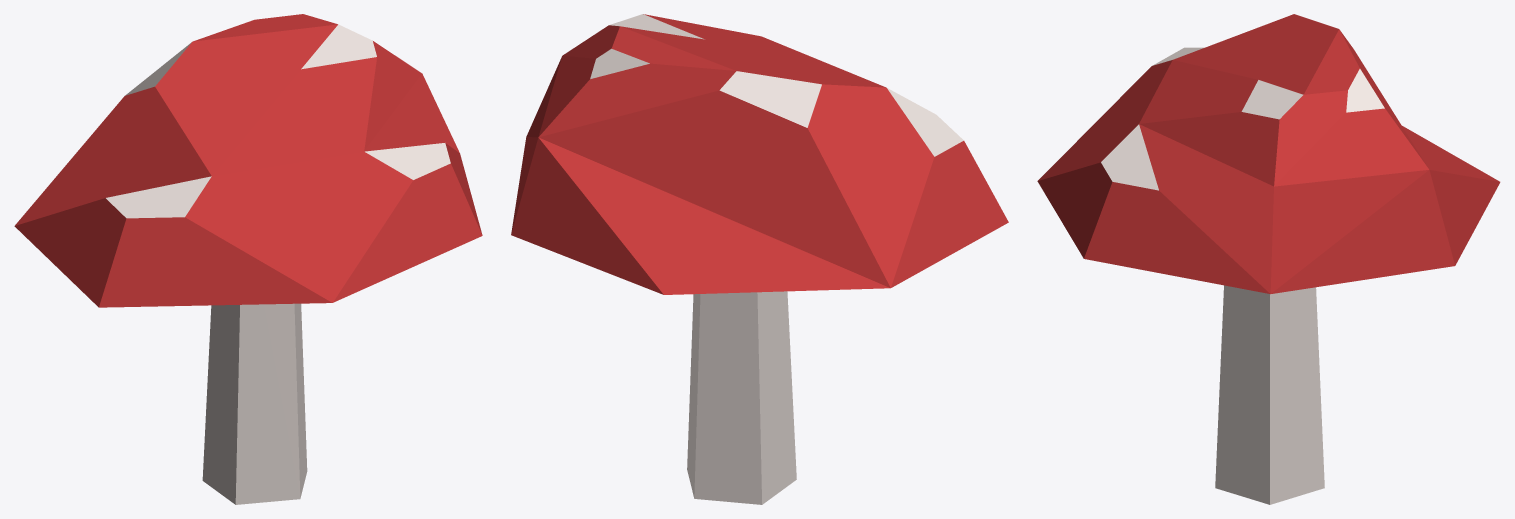
Rendered from SM_Mushroom_Red_01.fbx.
The picture shows the model from 3 angles, left to right: view 1: azimuth 30°, elevation 25°; view 2: azimuth 150°, elevation 25°; view 3: azimuth 270°, elevation 25°; orthographic projection. The views are drawn at different scales.
Visible parts, largest first — view 1: SM_Mushroom_Red_01; view 2: SM_Mushroom_Red_01; view 3: SM_Mushroom_Red_01.
Part boxes in pixels (x1,y1,x2,y2): SM_Mushroom_Red_01: (14,14,482,504); SM_Mushroom_Red_01: (511,14,1008,504); SM_Mushroom_Red_01: (1037,14,1500,504).
Size of the model in its own units: 20.86 by 20.61 by 19.87.
